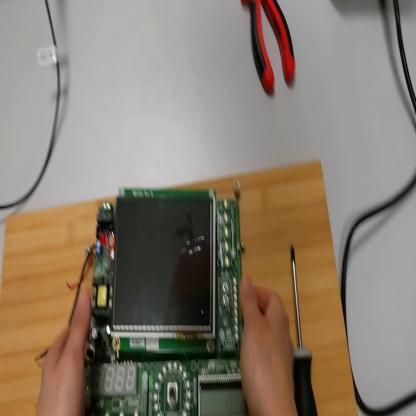hand: (238, 277, 297, 415), (37, 286, 94, 412)
low voltage board: (38, 186, 245, 414)
pliers: (243, 1, 298, 95)
screwdriver-: (288, 245, 319, 412)
working area: (2, 160, 357, 416)
